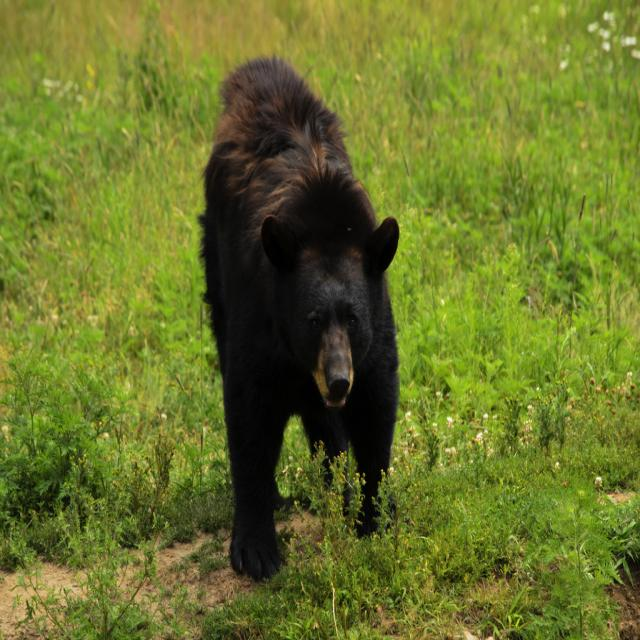Buffalo: (196, 53, 401, 584)
